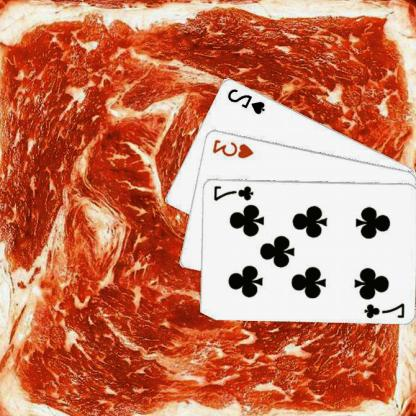2S: (226, 86, 268, 116)
3H: (211, 136, 257, 160)
7C: (212, 183, 256, 202), (364, 301, 408, 319)
